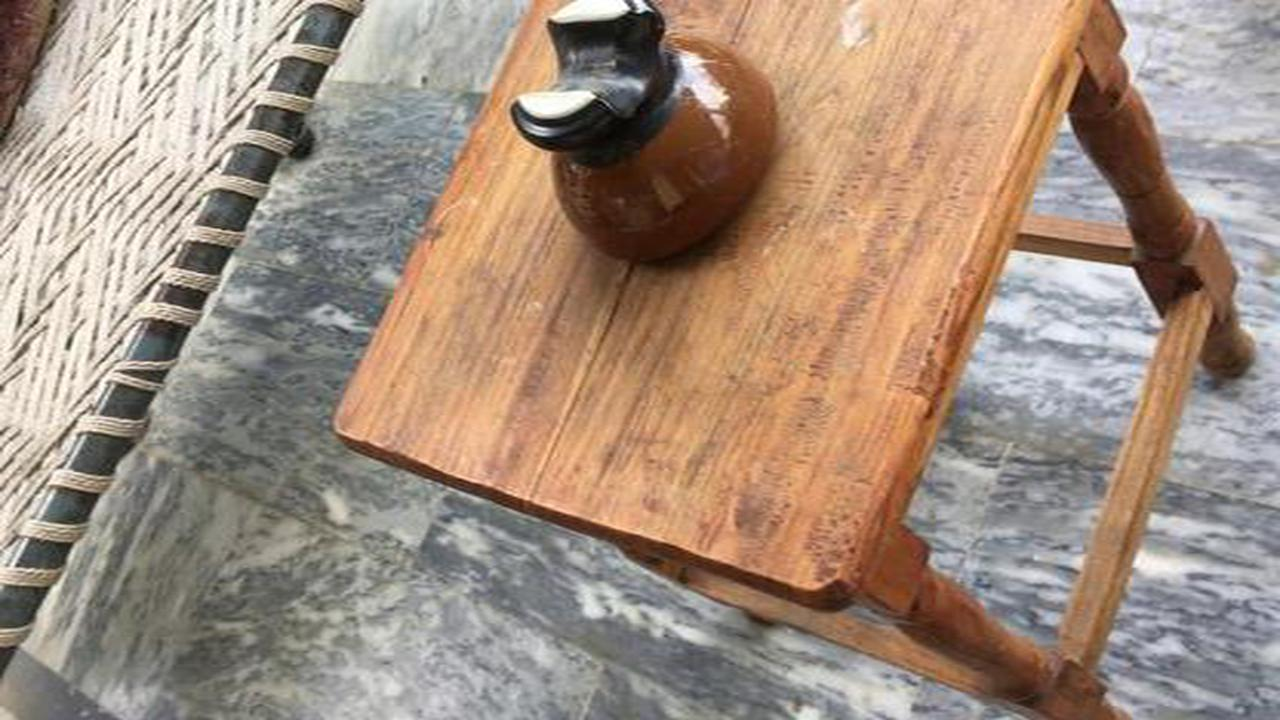insulator_pin: (505, 9, 794, 281)
